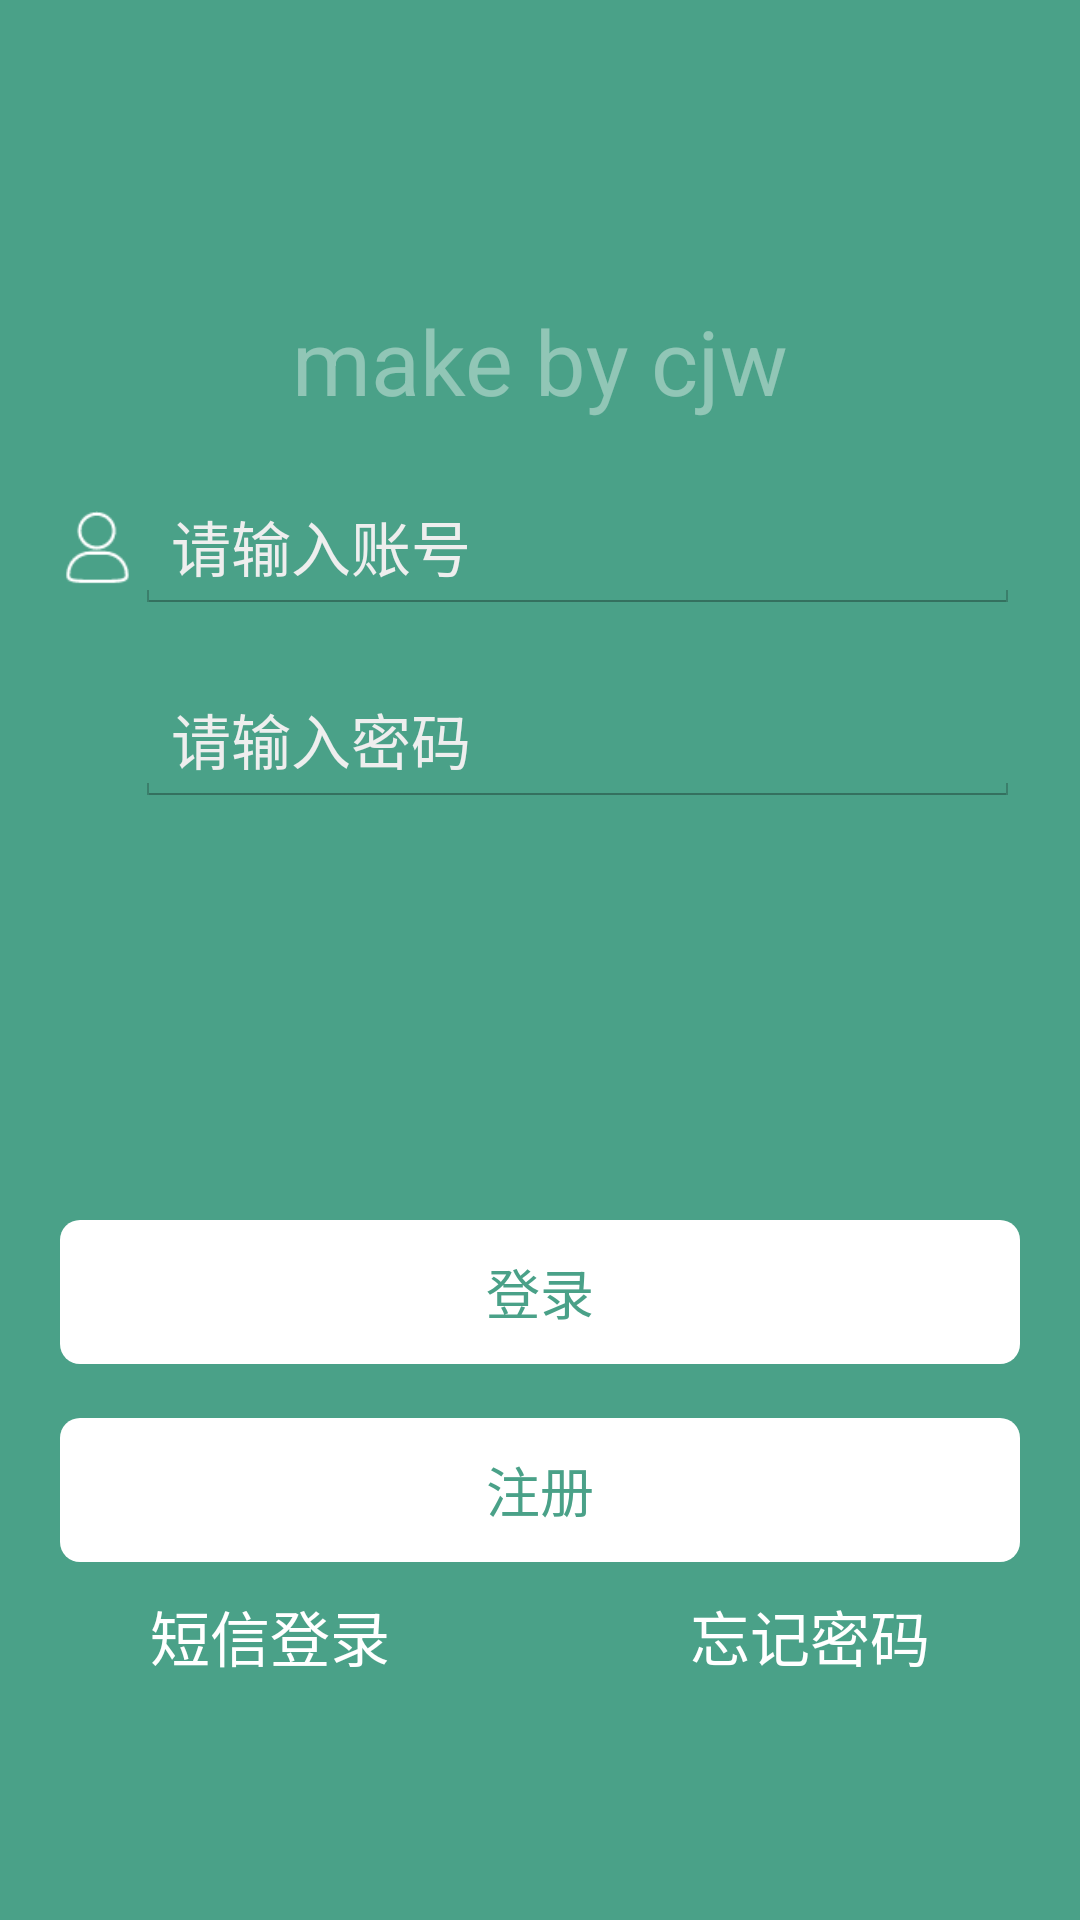

Icon click points for this 1080px×1920px phone screenshot, format (x=x, y=y):
login account: (x=97, y=547)
